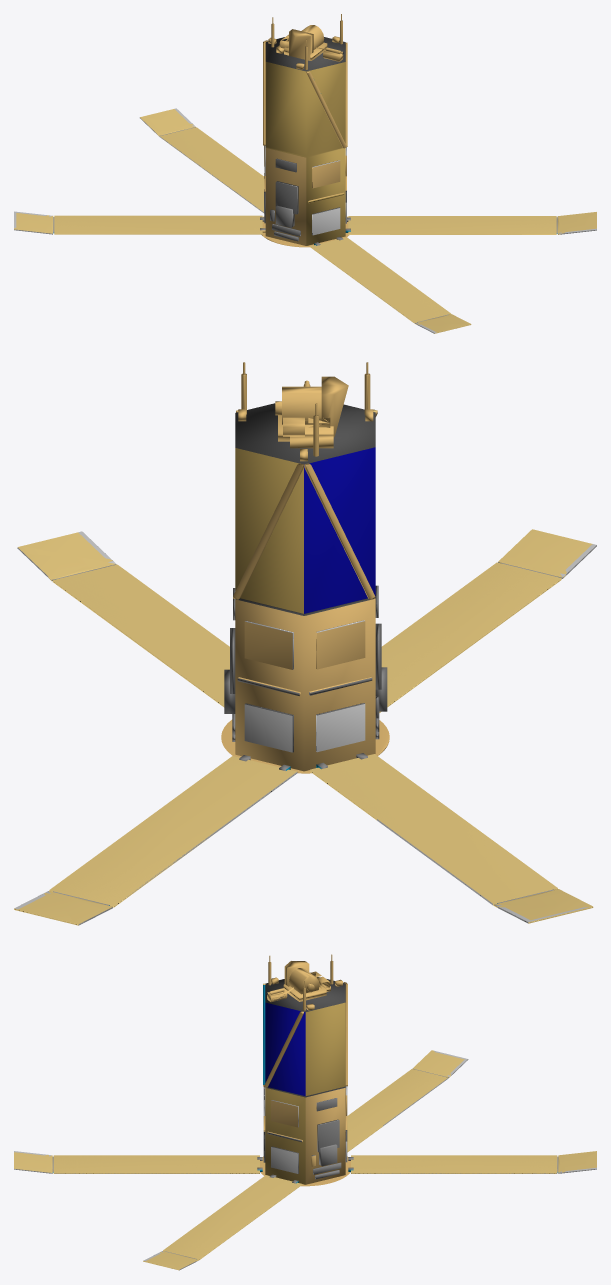
Rendered from seastar.glb.
The picture shows the model from 3 angles, top to bottom: view 1: azimuth 30°, elevation 25°; view 2: azimuth 150°, elevation 25°; view 3: azimuth 270°, elevation 25°; orthographic projection. The views are drawn at different scales.
Parts seen in each view (by area): view 1: Fake; view 2: Fake; view 3: Fake.
Boxes of the visible parts, <box> form: Fake: <box>14,14,596,333</box>; Fake: <box>14,362,596,925</box>; Fake: <box>14,954,596,1270</box>.
Bounding box in the file's own units: 195 × 83.71 × 219.
1 material, 1 textured.
